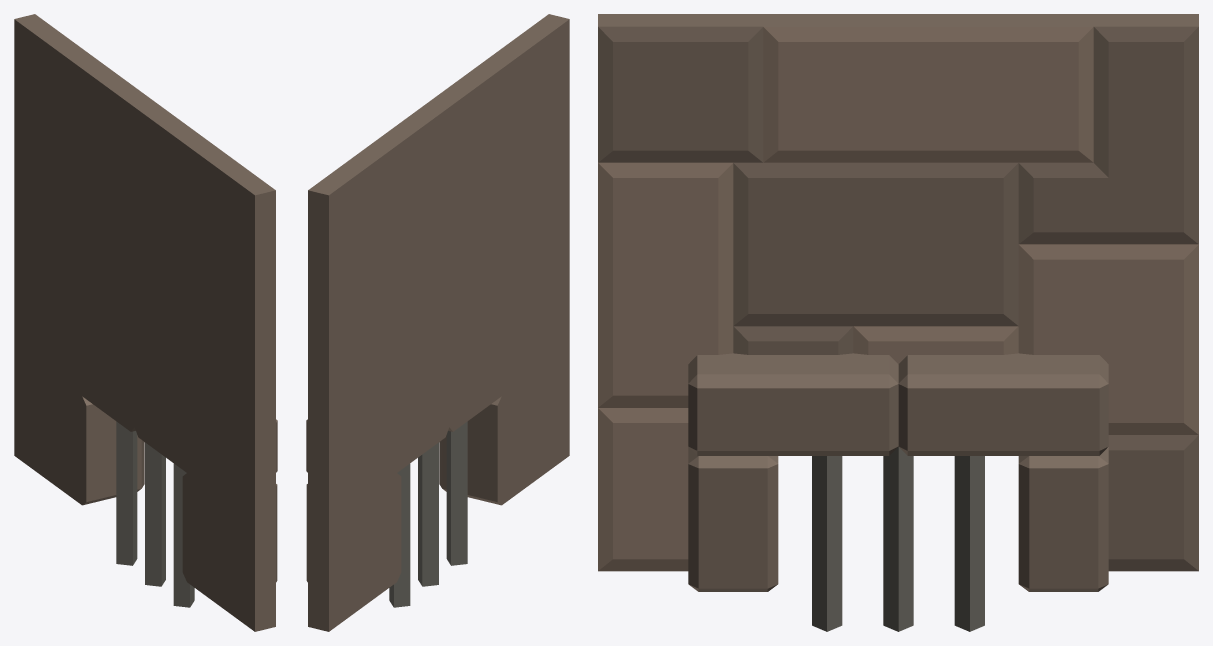
The model's file is Stone_Sewer_Grate_2.obj.
3 renders of one model, left to right at view 1: azimuth 30°, elevation 25°; view 2: azimuth 150°, elevation 25°; view 3: azimuth 270°, elevation 25°, orthographic. The views are drawn at different scales.
Parts seen in each view (by area): view 1: object5, object2, object4, object6, object8, object3, object1, object7; view 2: object5, object8, object4, object6, object2, object7, object1, object3; view 3: object5, object4, object8, object2, object6, object1, object3, object7.
Part boxes in pixels (x1,y1,x2,y2): object5: (14, 14, 275, 631); object2: (50, 376, 144, 505); object4: (134, 376, 277, 493); object6: (182, 473, 277, 600); object8: (51, 311, 135, 431); object3: (116, 421, 137, 565); object1: (145, 442, 165, 586); object7: (173, 463, 194, 607); object5: (308, 14, 569, 631); object8: (306, 372, 449, 493); object4: (448, 310, 533, 431); object6: (439, 380, 532, 505); object2: (306, 473, 401, 601); object7: (446, 421, 467, 565); object1: (418, 442, 438, 586); object3: (389, 463, 410, 607); object5: (598, 14, 1198, 571); object4: (688, 353, 898, 455); object8: (898, 353, 1108, 455); object2: (1018, 447, 1108, 591); object6: (688, 447, 778, 591); object1: (883, 446, 913, 631); object3: (954, 456, 984, 631); object7: (812, 456, 842, 631).
Size of the model in its own units: 0.15 by 1.1 by 1.
